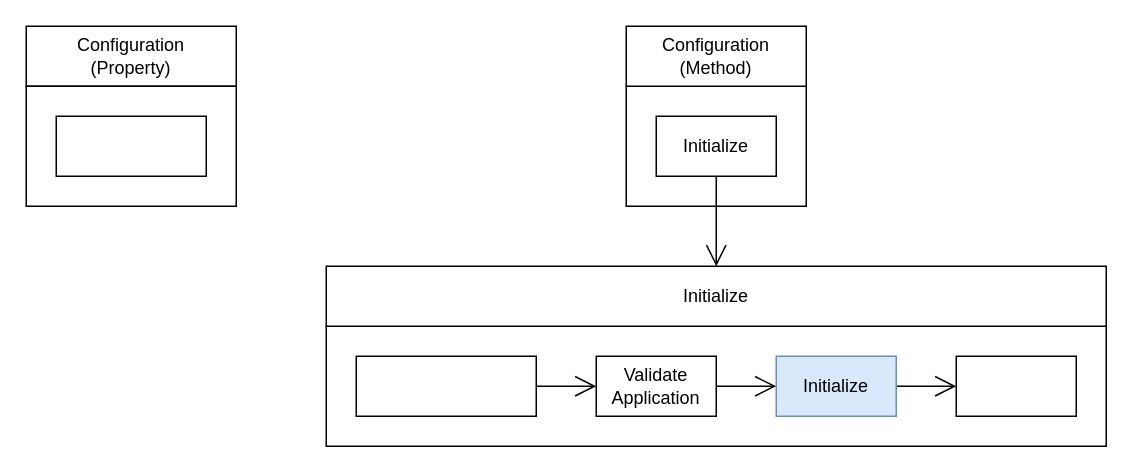
Image size: 1133x473. Some labels were removed from this diagram. The centre of each missing label's shape, as x and y in pixels:
ProjectPath: point (130, 145)
ThrowIf AlreadyInitialized: point (445, 385)
Validate Path: point (1015, 385)
